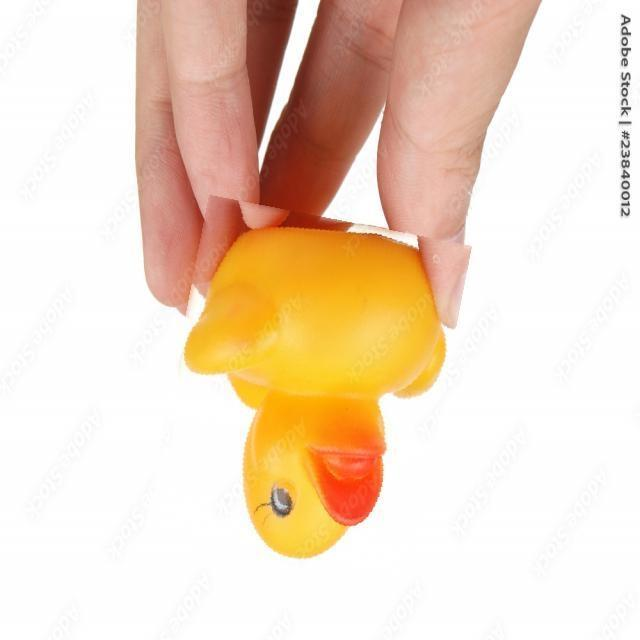rubber-duck: (184, 226, 443, 555)
